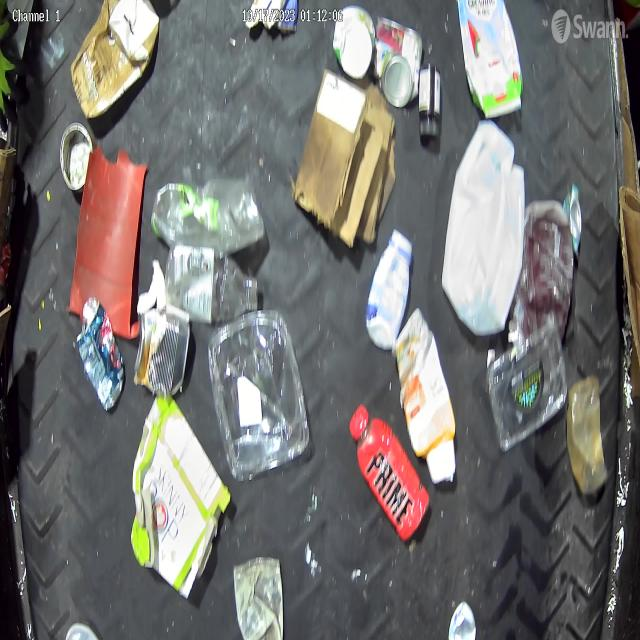milk-jug: (442, 120, 520, 342)
